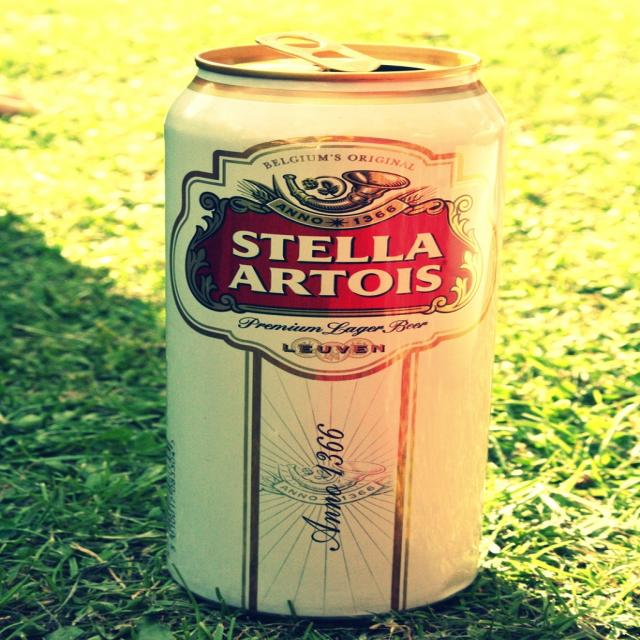stellaartois: (184, 149, 485, 364)
